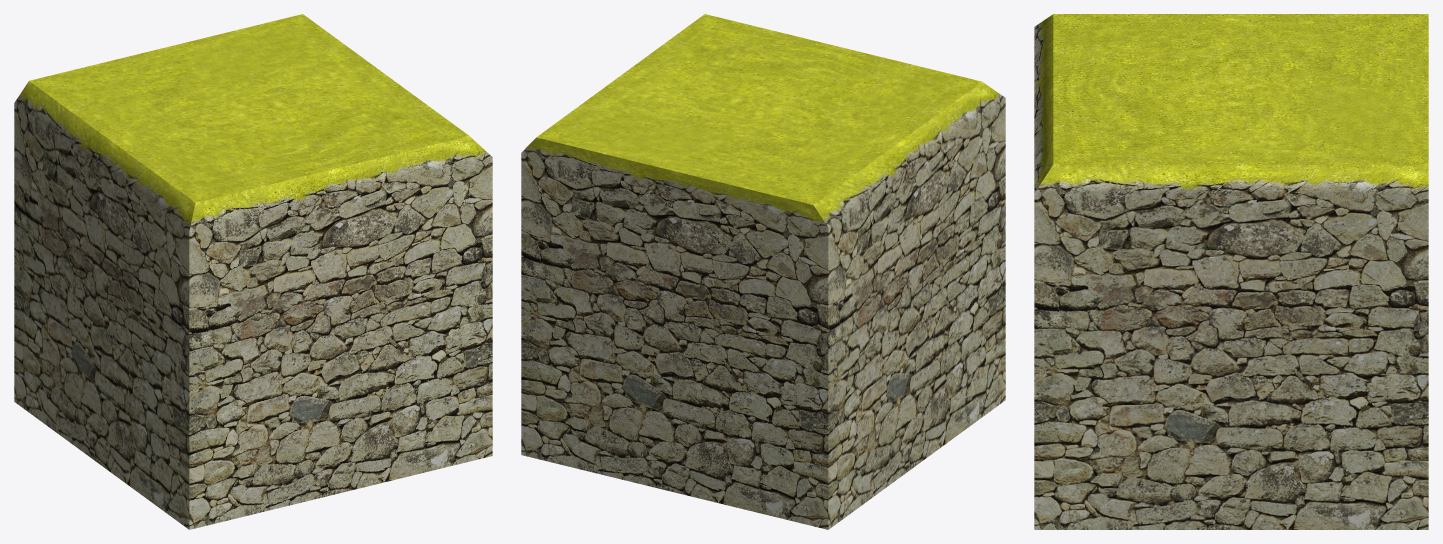
Rendered from Big_Rock_Wall_Tri_01.fbx.
3 views of the same model, side by side, from view 1: azimuth 30°, elevation 25°; view 2: azimuth 150°, elevation 25°; view 3: azimuth 270°, elevation 25° (orthographic). The views are drawn at different scales.
Parts seen in each view (by area): view 1: bigCubeReference_polySurface2; view 2: bigCubeReference_polySurface2; view 3: bigCubeReference_polySurface2.
Part boxes in pixels (<box>): bigCubeReference_polySurface2: <box>14,14,492,529</box>; bigCubeReference_polySurface2: <box>521,14,1005,529</box>; bigCubeReference_polySurface2: <box>1034,14,1428,529</box>.
Size of the model in its own units: 9.77 by 9.77 by 9.77.
